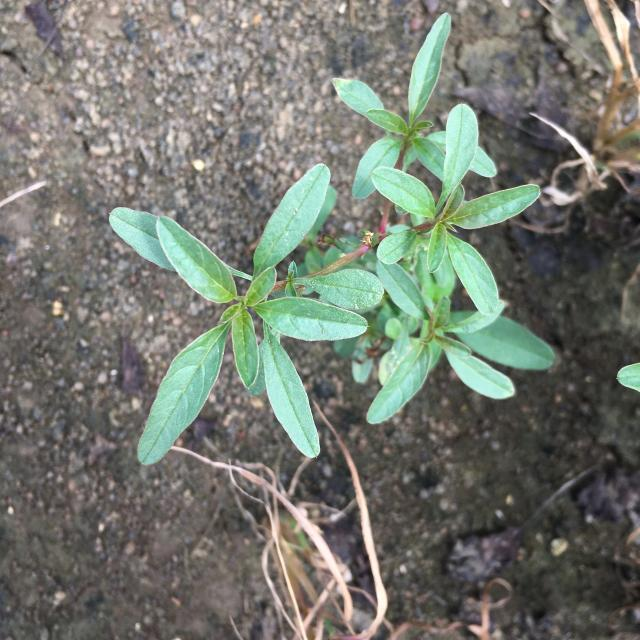Waterhemp: (109, 12, 556, 465)
